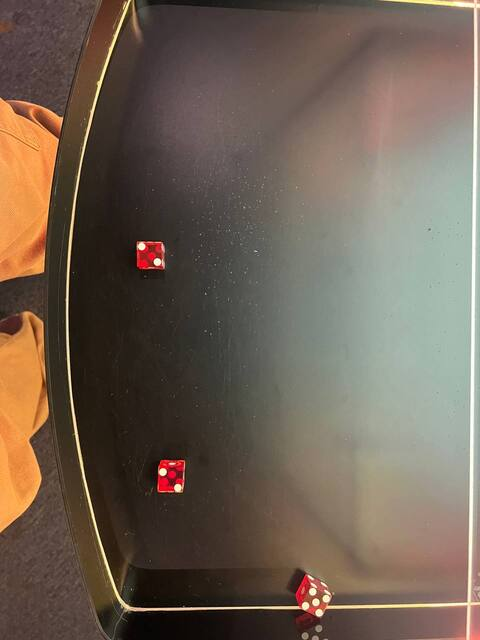five: (298, 584, 333, 619)
two: (154, 462, 187, 499), (133, 237, 165, 272)
